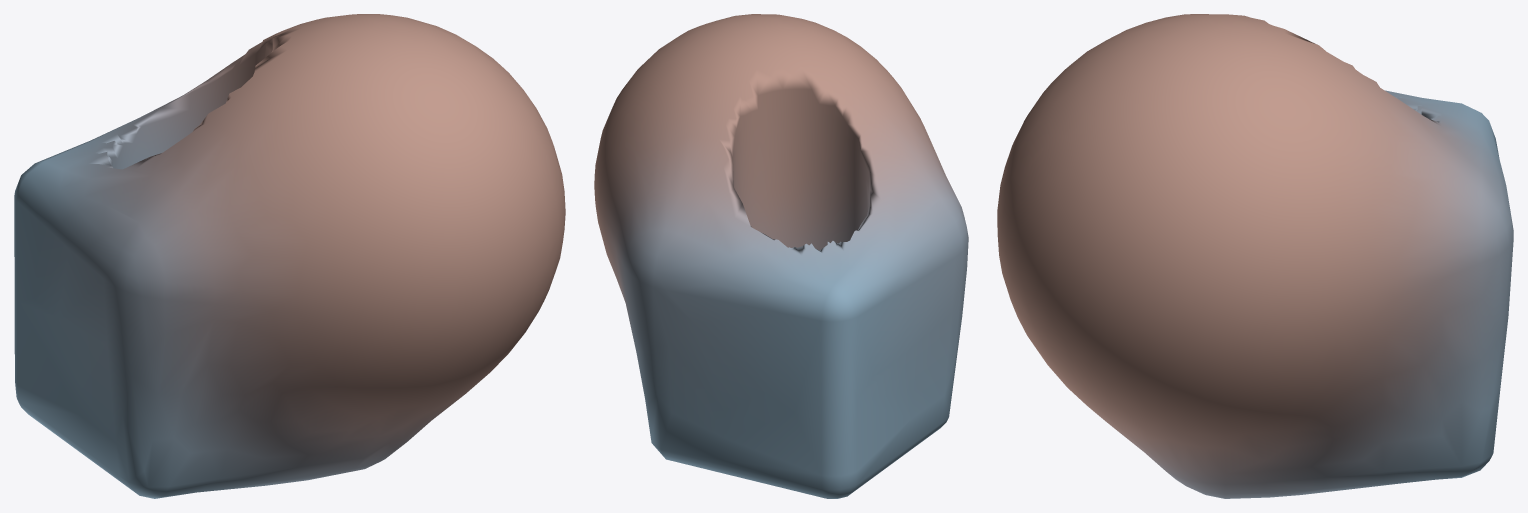
3 renders of one model, left to right at view 1: azimuth 30°, elevation 25°; view 2: azimuth 150°, elevation 25°; view 3: azimuth 270°, elevation 25°, orthographic. The views are drawn at different scales.
Size of the model in its own units: 2.07 by 2.07 by 2.07.
